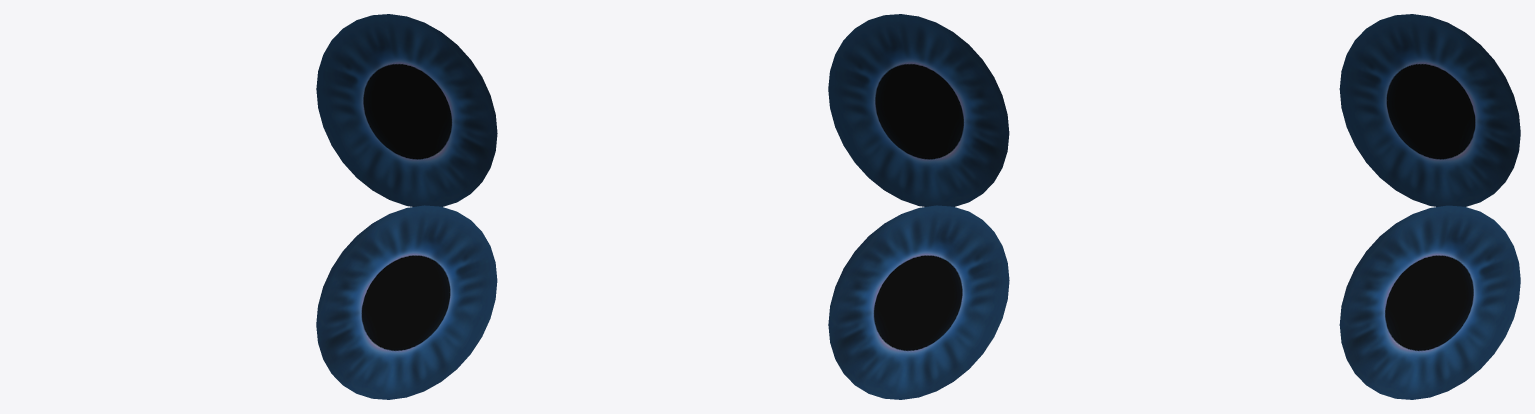
Rendered from Eye.fbx.
3 views of the same model, side by side, from view 1: azimuth 30°, elevation 25°; view 2: azimuth 150°, elevation 25°; view 3: azimuth 270°, elevation 25° (orthographic).
Visible parts, largest first — view 1: Eye; view 2: Eye; view 3: Eye.
Boxes of the visible parts, x1,y1,x2,y2 form: Eye: (316,14,497,399); Eye: (828,14,1009,399); Eye: (1339,14,1520,399).
Size of the model in its own units: 128 by 48 by 111.
1 material, 1 textured.
